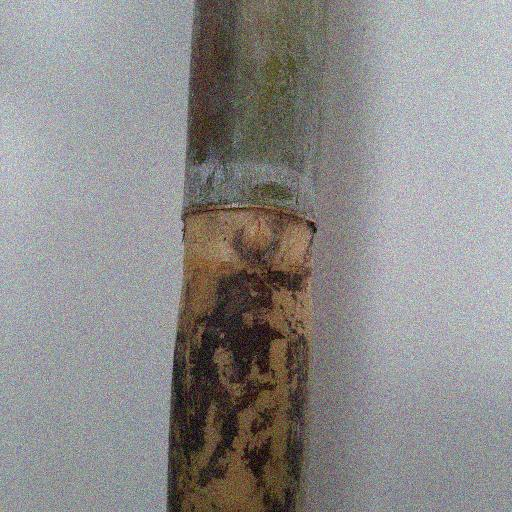Bud: (238, 214, 274, 265)
